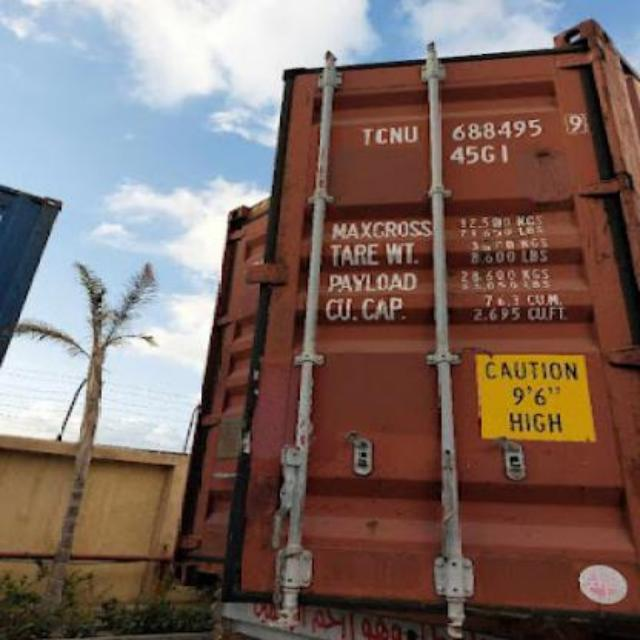4: (498, 120, 512, 140)
5: (527, 118, 543, 138)
6: (452, 122, 466, 142)
8: (482, 120, 496, 140), (467, 122, 481, 140)
9: (566, 112, 588, 134), (512, 118, 526, 140)
C: (374, 126, 388, 146)
N: (390, 126, 402, 144)
T: (361, 126, 374, 148)
U: (404, 125, 420, 144)
